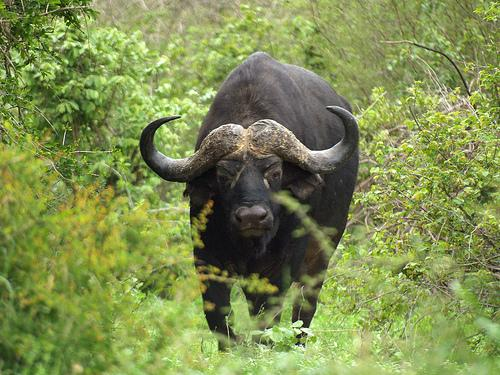Buffalo: (129, 40, 359, 363)
